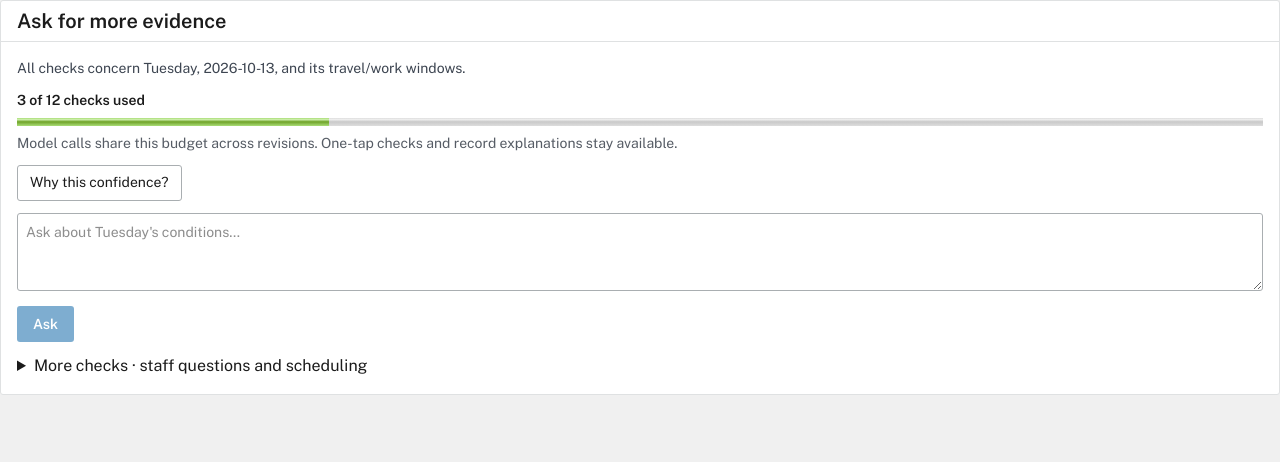
Test case: shows request failures instead of silently waiting
Expected: the text "3 of 12 checks used" is shown, [17,92,145,108]
Click the button "Why this confidence?" at (99, 183), box [17,165,182,201]
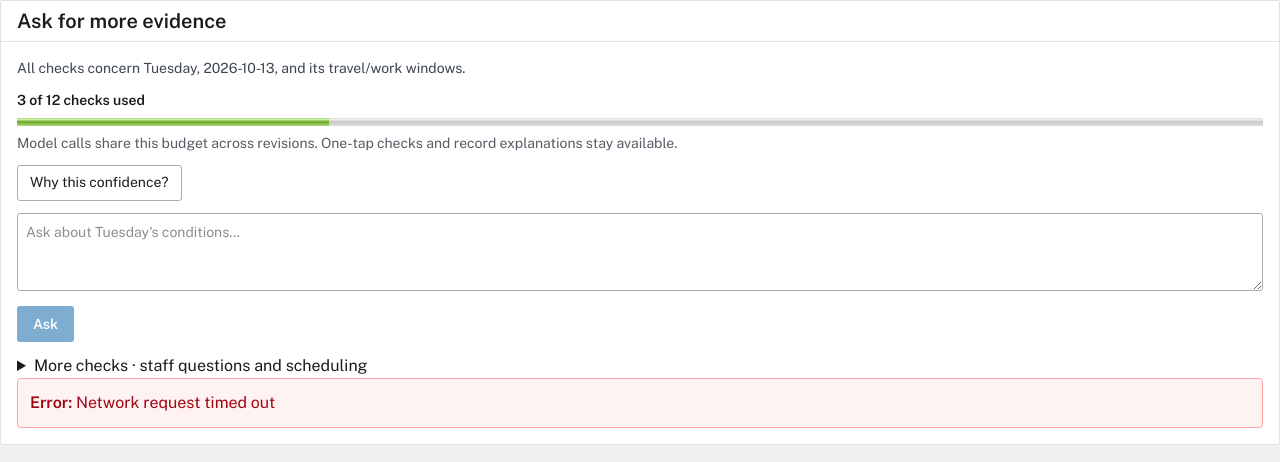
Expected: the text "Network request timed out" is shown, [76,393,275,412]
